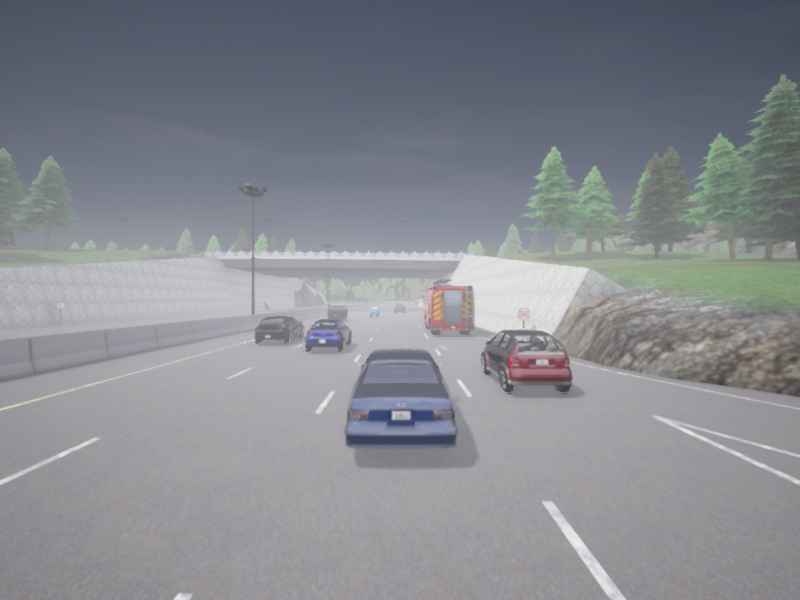vehicle: (344, 348, 458, 448), (481, 330, 572, 392), (421, 279, 474, 333), (305, 319, 351, 350), (255, 315, 303, 342), (327, 303, 347, 321), (370, 307, 380, 316), (394, 304, 405, 312)
